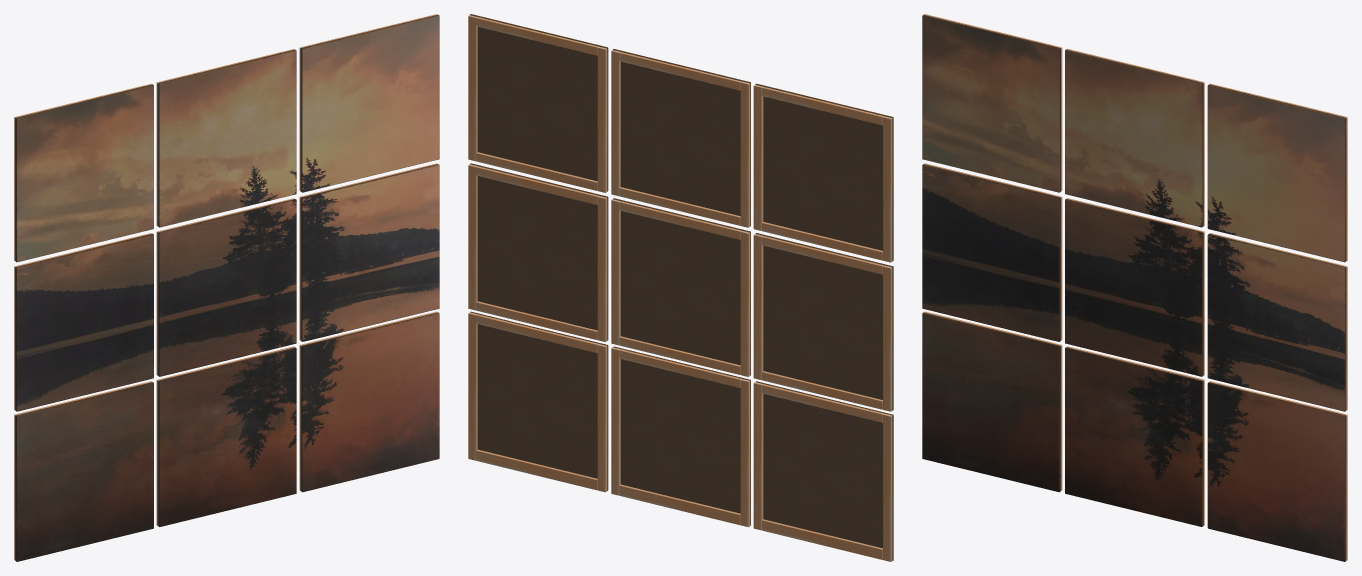
The model's file is abo-B073P5QJ53.glb.
The picture shows the model from 3 angles, left to right: view 1: azimuth 30°, elevation 25°; view 2: azimuth 150°, elevation 25°; view 3: azimuth 330°, elevation 25°; orthographic projection.
Bounding box in the file's own units: 1.22 × 1.22 × 0.013.
Materials: 1 (1 with a texture image).
